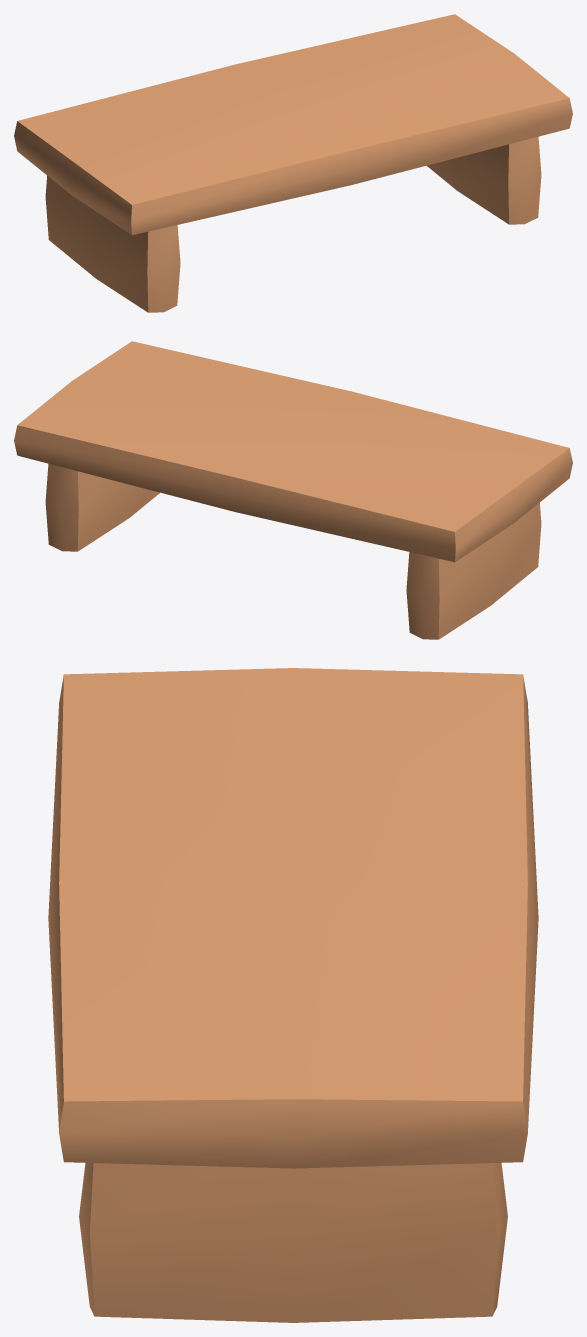
The model's file is monitor-riser.glb.
3 renders of one model, top to bottom at view 1: azimuth 30°, elevation 25°; view 2: azimuth 150°, elevation 25°; view 3: azimuth 270°, elevation 25°, orthographic. The views are drawn at different scales.
Visible parts, largest first — view 1: part (×3); view 2: part (×3); view 3: part (×2).
Boxes of the visible parts, x1=… form: part (×3): x1=14, y1=14, x2=572, y2=312; part (×3): x1=14, y1=341, x2=572, y2=639; part (×2): x1=48, y1=668, x2=538, y2=1322.
Bounding box in the file's own units: 0.85 × 0.24 × 0.4.
1 material, 1 textured.
